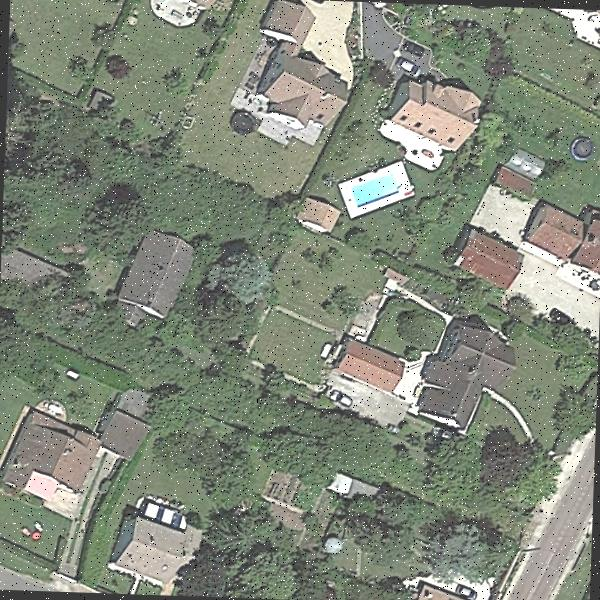Buildings: (256, 0, 345, 138), (412, 330, 514, 425), (14, 410, 90, 502), (124, 225, 195, 321), (394, 79, 477, 148), (117, 510, 186, 592), (535, 204, 600, 268), (460, 222, 522, 276), (338, 340, 393, 389), (103, 415, 139, 460), (169, 0, 211, 15)
